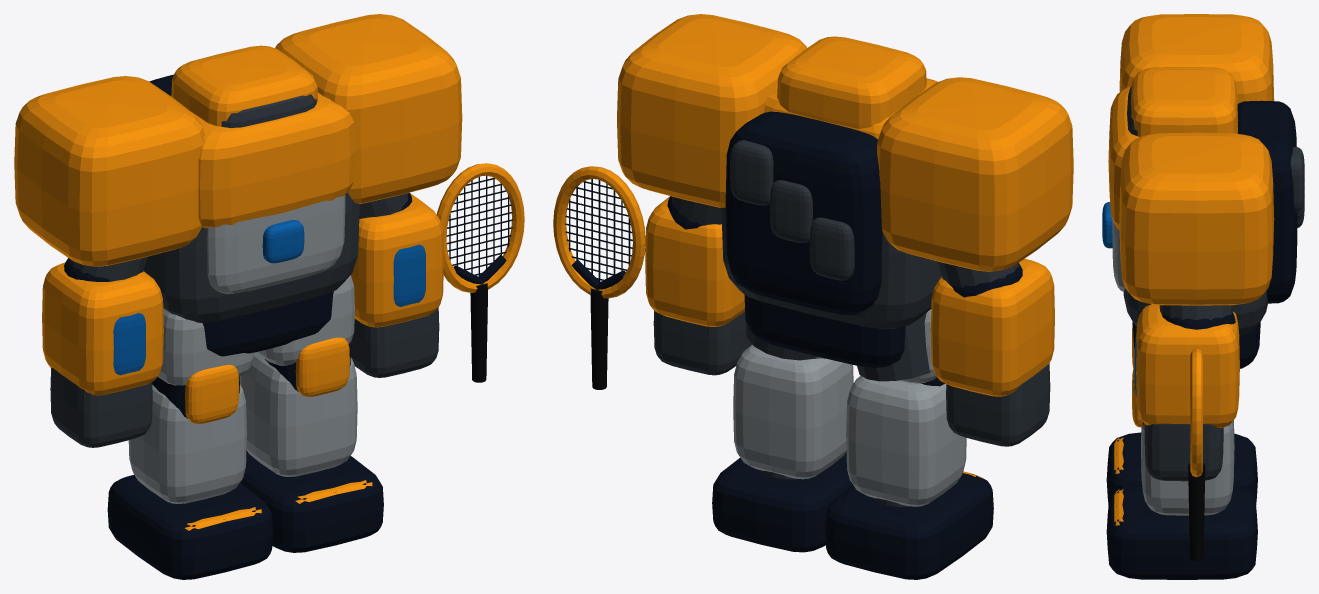
File: Bastion_Robot_Model_v1.obj
3 views of the same model, side by side, from view 1: azimuth 30°, elevation 25°; view 2: azimuth 150°, elevation 25°; view 3: azimuth 270°, elevation 25° (orthographic). The views are drawn at different scales.
Parts seen in each view (by area): view 1: L_Shoulder_Armor, R_Shoulder_Armor, Upper_Chest, L_Foot, L_Forearm_Armor, R_Shin_Armor, L_Shin_Armor, R_Foot, Torso_Core, Chest_Armor, R_Forearm_Armor, Helmet (+15 smaller); view 2: L_Shoulder_Armor, R_Shoulder_Armor, Backpack, R_Shin_Armor, L_Forearm_Armor, L_Shin_Armor, L_Foot, Helmet, R_Foot, R_Forearm_Armor, Pelvis, Torso_Core (+13 smaller); view 3: R_Shoulder_Armor, R_Foot, R_Forearm_Armor, L_Shoulder_Armor, Helmet, Backpack, R_Fist, R_Shin_Armor, L_Foot, Upper_Chest, Racket_Frame, Racket_Handle (+10 smaller).
Part boxes in pixels (box(x1,y1,x2,y2)): L_Shoulder_Armor: box(14, 76, 204, 266); R_Shoulder_Armor: box(275, 14, 462, 203); Upper_Chest: box(182, 92, 355, 228); L_Foot: box(107, 475, 273, 579); L_Forearm_Armor: box(42, 262, 163, 395); R_Shin_Armor: box(239, 352, 357, 476); L_Shin_Armor: box(128, 384, 246, 503); R_Foot: box(240, 450, 383, 552); Torso_Core: box(143, 192, 359, 322); Chest_Armor: box(206, 195, 345, 294); R_Forearm_Armor: box(351, 193, 443, 327); Helmet: box(171, 45, 318, 126); L_Shoulder_Armor: box(877, 77, 1073, 271); R_Shoulder_Armor: box(617, 14, 806, 207); Backpack: box(725, 111, 882, 314); R_Shin_Armor: box(733, 344, 853, 479); L_Forearm_Armor: box(930, 258, 1054, 396); L_Shin_Armor: box(846, 376, 966, 506); L_Foot: box(825, 473, 993, 579); Helmet: box(777, 36, 926, 128); R_Foot: box(712, 452, 852, 552); R_Forearm_Armor: box(645, 196, 744, 326); Pelvis: box(744, 295, 905, 367); Torso_Core: box(721, 207, 941, 329); R_Shoulder_Armor: box(1119, 132, 1274, 305); R_Foot: box(1106, 484, 1257, 579); R_Forearm_Armor: box(1136, 304, 1239, 428); L_Shoulder_Armor: box(1119, 14, 1274, 103); Helmet: box(1131, 67, 1238, 136); Backpack: box(1237, 100, 1297, 303); R_Fist: box(1144, 423, 1223, 481); R_Shin_Armor: box(1141, 420, 1234, 515); L_Foot: box(1106, 432, 1257, 505); Upper_Chest: box(1108, 86, 1237, 229); Racket_Frame: box(1190, 348, 1202, 477); Racket_Handle: box(1188, 463, 1205, 560).
Bounding box in the file's own units: 2.97 × 2.76 × 1.12.
